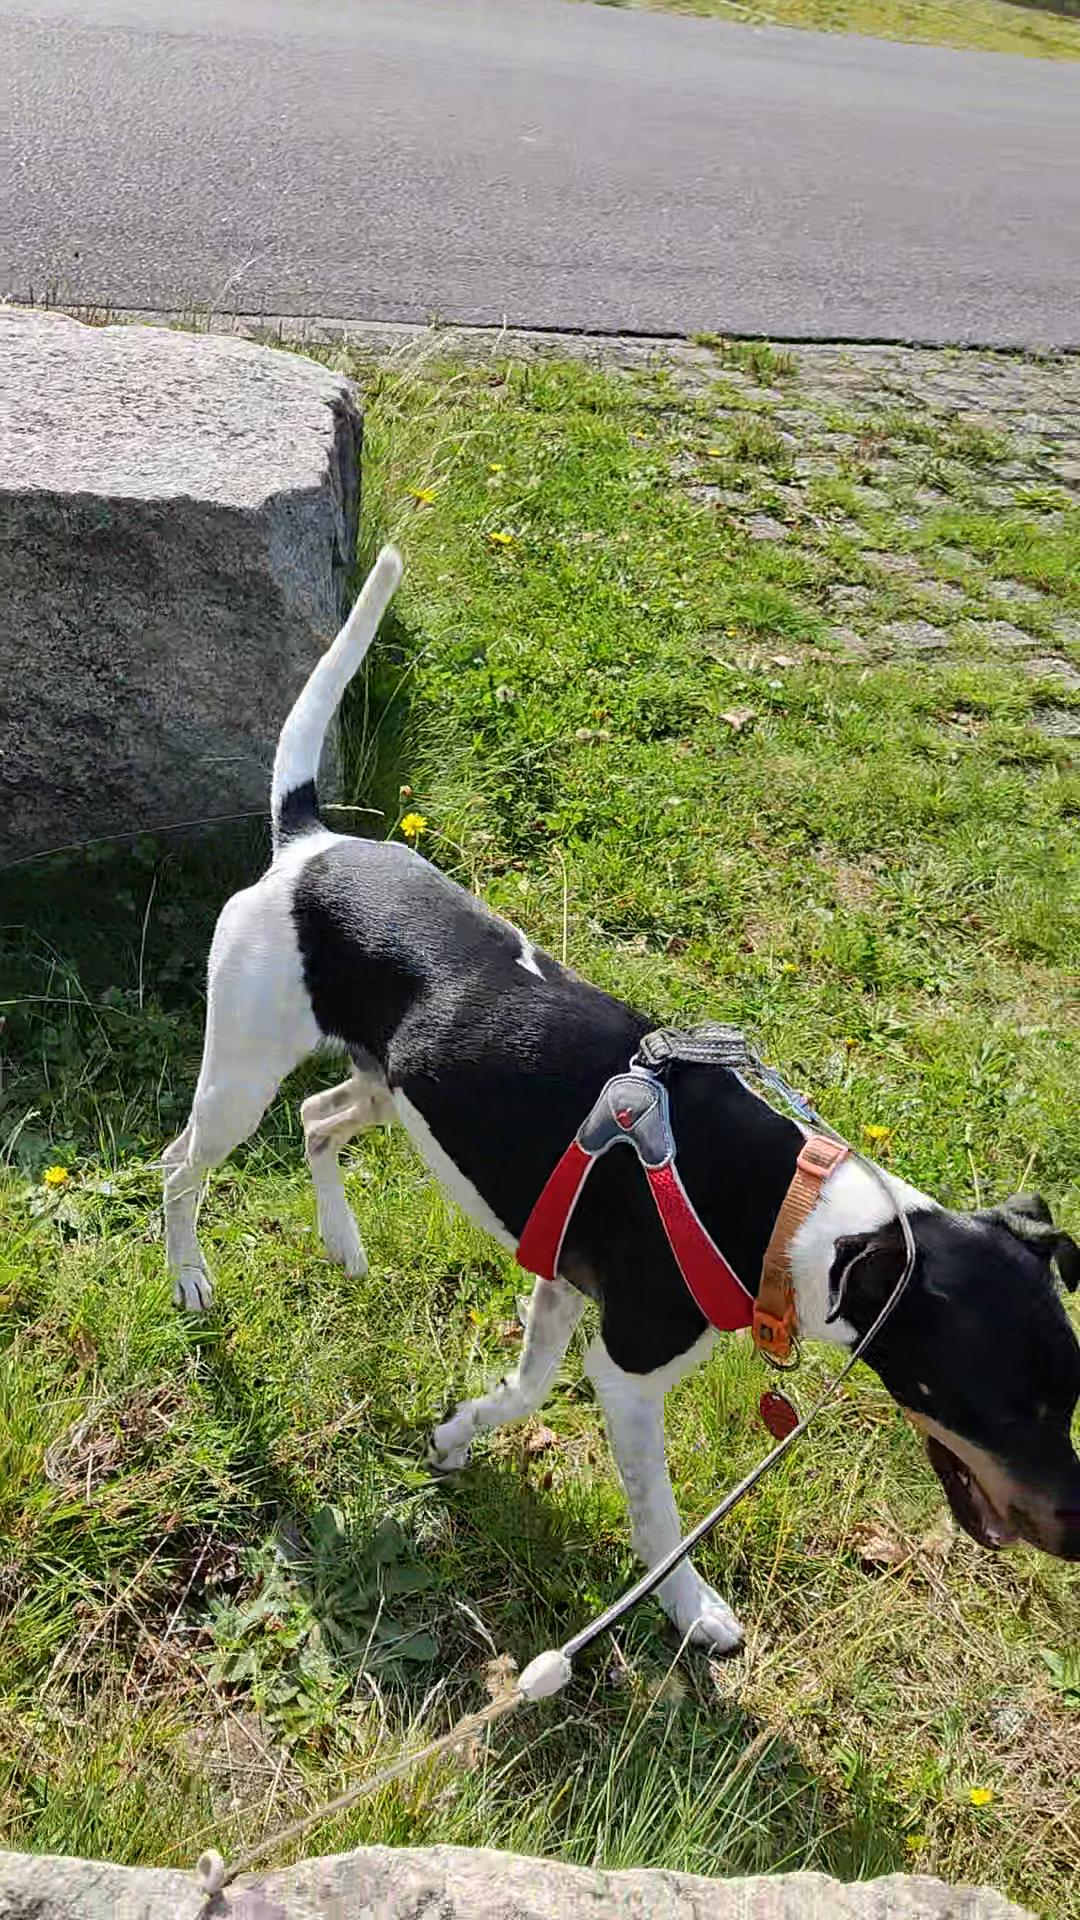Dog: (149, 524, 1079, 1691)
